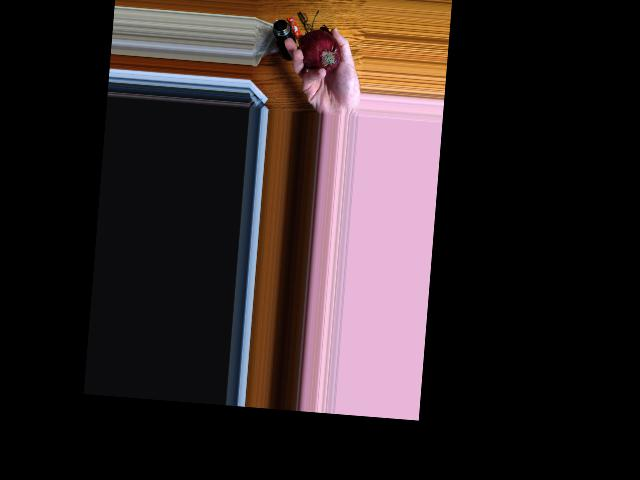onion: (301, 31, 344, 78)
